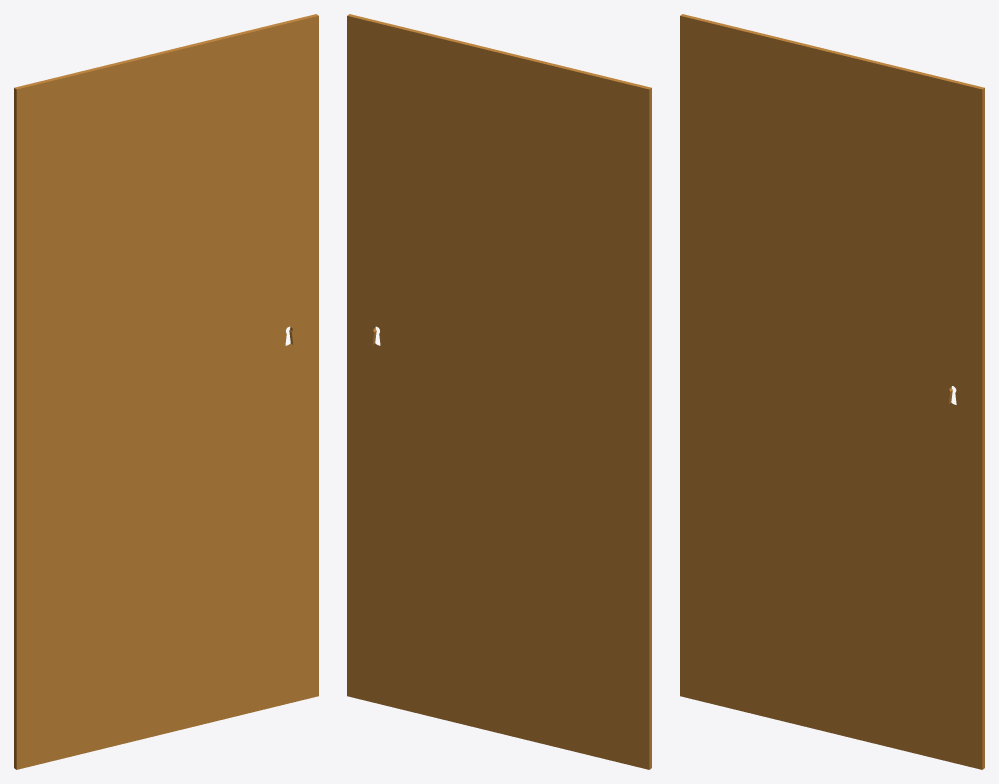
File: door.glb
The picture shows the model from 3 angles, left to right: view 1: azimuth 30°, elevation 25°; view 2: azimuth 150°, elevation 25°; view 3: azimuth 330°, elevation 25°; orthographic projection.
Visible parts, largest first — view 1: door; view 2: door; view 3: door.
Part boxes in pixels (left/top/right/bottom): door: left=14, top=14, right=318, bottom=769; door: left=347, top=14, right=651, bottom=769; door: left=680, top=14, right=984, bottom=769.
Size of the model in its own units: 0.7006 by 1.51 by 0.00983.
